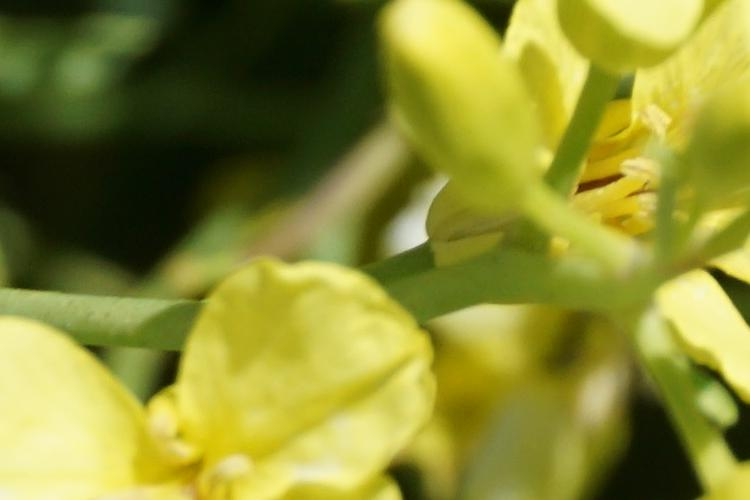bud: (369, 18, 566, 238), (573, 6, 705, 77)
yellow: (75, 282, 453, 500)
